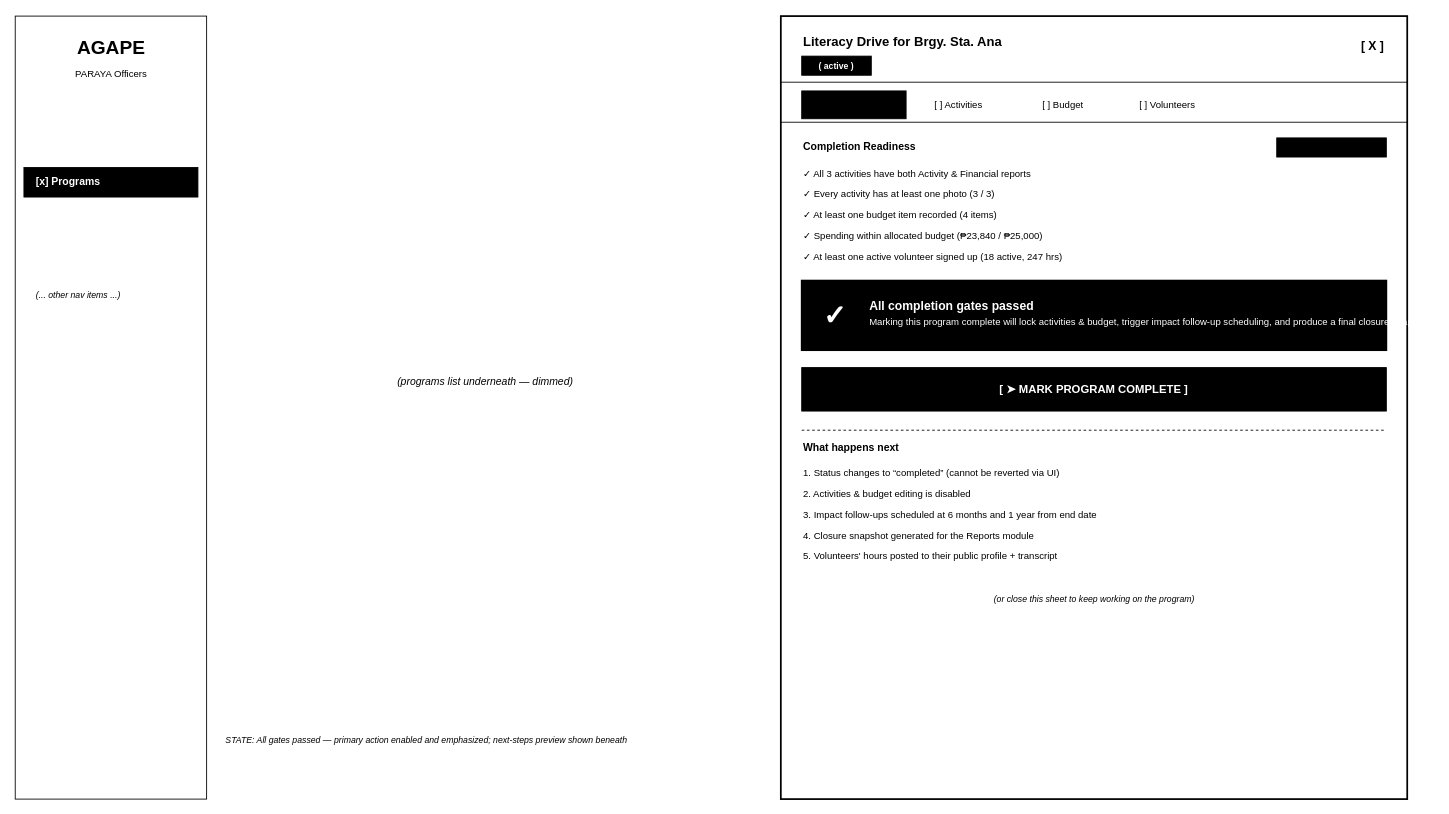
This 1449x814 diagram has some shape labels left out. The shapes that lost their labels are listed below. From the top down, each one's centre as x and y in pixels, then its label:
the point at 853,104: [x] Overview
the point at 1331,147: 5 of 5 gates passed
